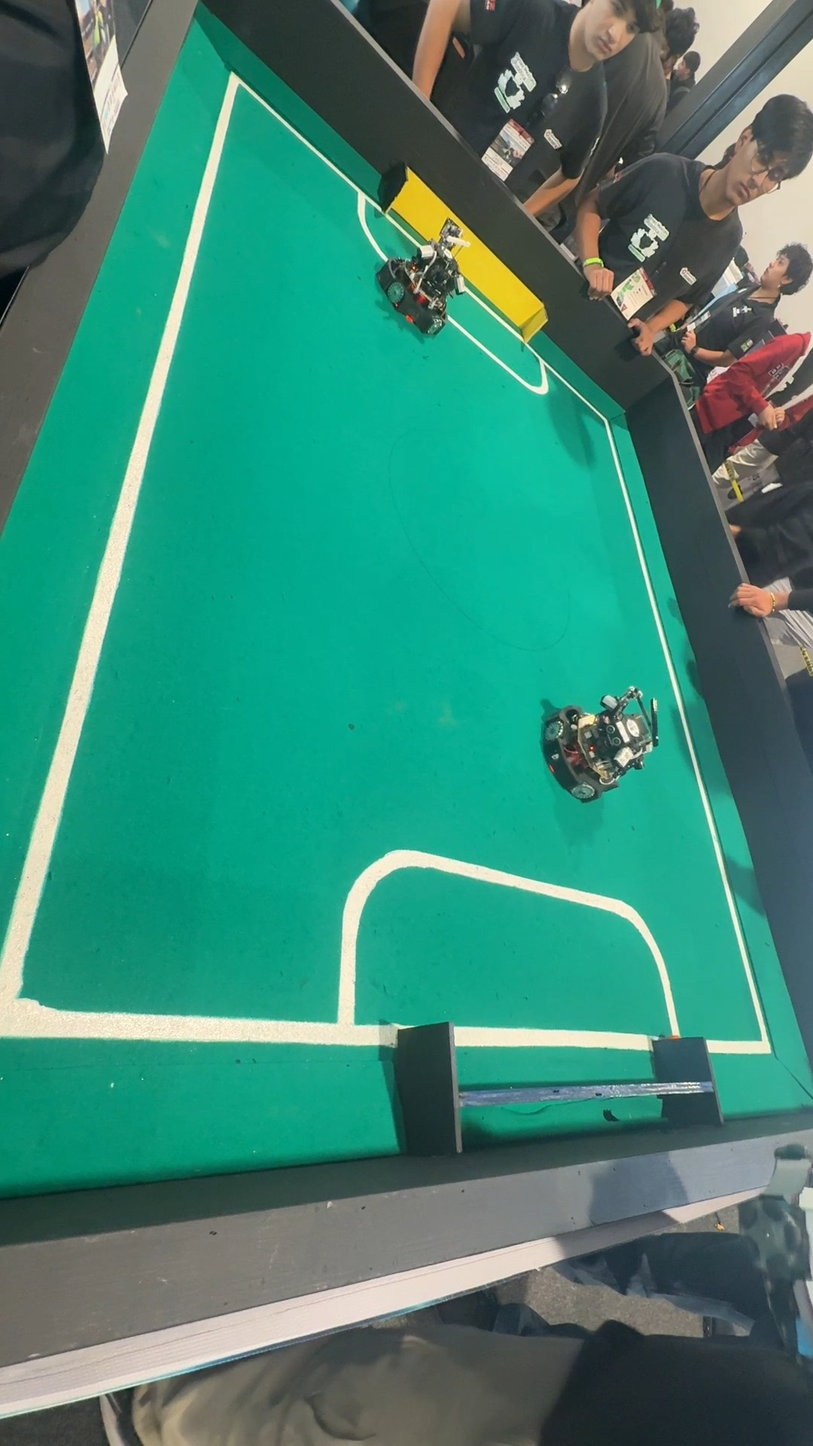Robot: (540, 676, 664, 815), (371, 203, 470, 345)
